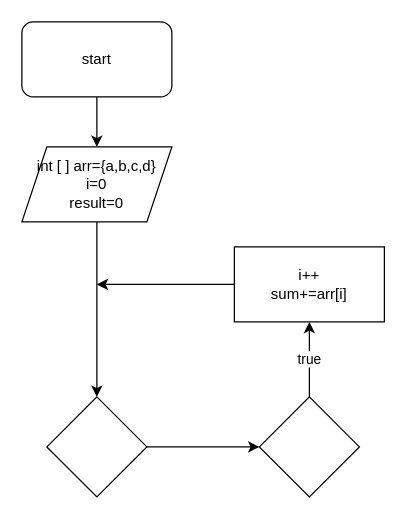
The diagram is 406 pixels wide and 519 high, and some of its shapes have lost their labels. Each missing label, with the box of its shape:
arr[i]%2==0: (258, 396, 359, 497)
i<arr.Length: (46, 396, 147, 497)
